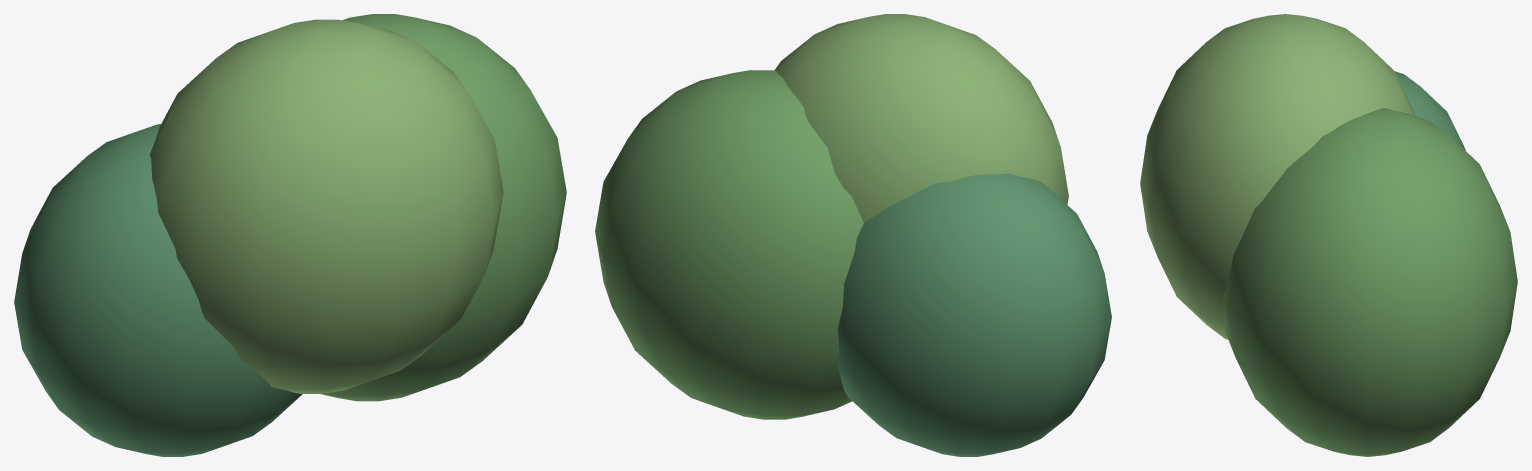
File: bush.glb
3 renders of one model, left to right at view 1: azimuth 30°, elevation 25°; view 2: azimuth 150°, elevation 25°; view 3: azimuth 270°, elevation 25°, orthographic. The views are drawn at different scales.
Visible parts, largest first — view 1: bush; view 2: bush; view 3: bush.
Boxes of the visible parts, x1=… form: bush: x1=14, y1=14, x2=566, y2=456; bush: x1=595, y1=14, x2=1111, y2=456; bush: x1=1140, y1=14, x2=1517, y2=456.
Size of the model in its own units: 0.92 by 0.69 by 0.6415.
Materials: 1 (1 with a texture image).
